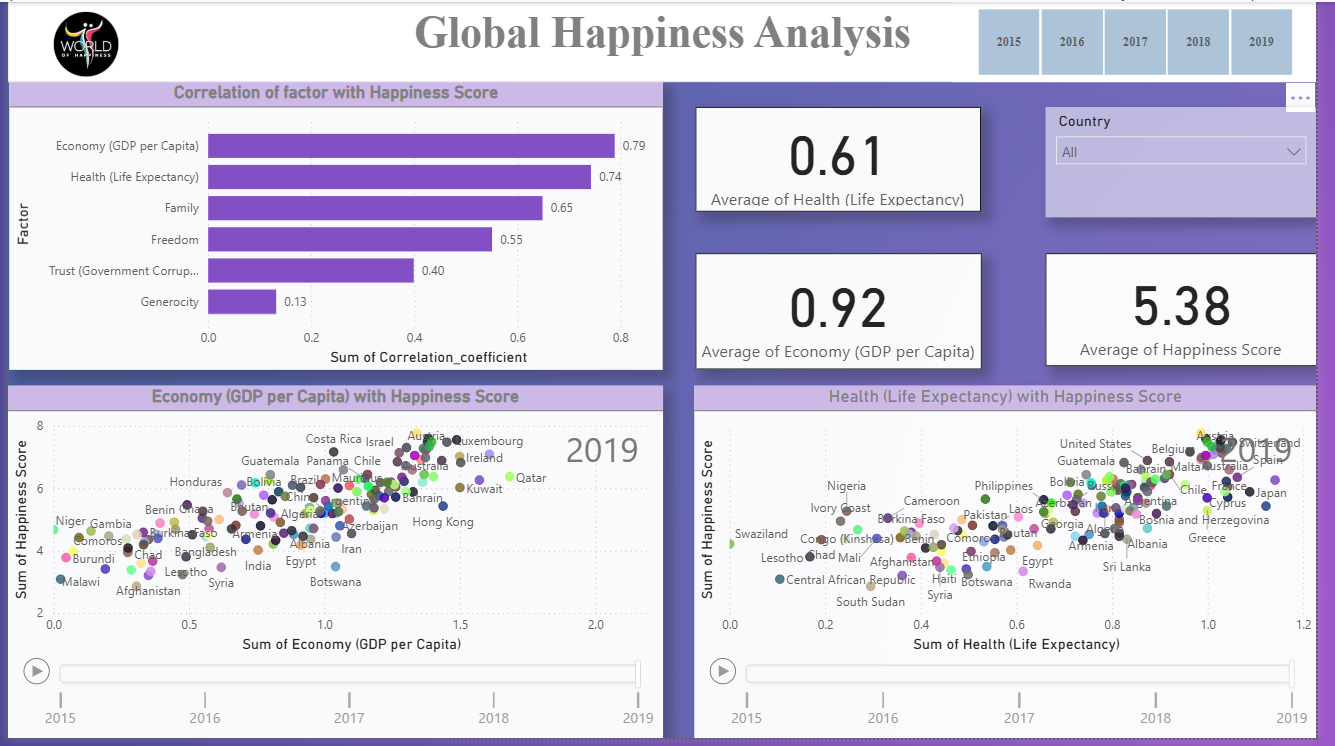

Layout of this report page (visuals, bound fields, positions):
{"tool":"powerbi","page":{"name":"Page 1","canvas":[1280,720],"ordinal":0},"visuals":[{"type":"clusteredBarChart","title":"Correlation of factor with Happiness Score","fields":{"Category":["Table.Factor"],"Y":["Sum(Table.Correlation_coefficient)"]},"box":[1.2,78.3,639.5,281.3],"z":0},{"type":"scatterChart","title":"Economy (GDP per Capita) with Happiness Score","fields":{"X":["Sum(world_happiness_2015_2019.Economy (GDP per Capita))"],"Y":["Sum(world_happiness_2015_2019.Happiness Score)"],"Play":["world_happiness_2015_2019.Year"],"Series":["world_happiness_2015_2019.Country"]},"box":[0,375.4,640.8,344.8],"z":1000},{"type":"scatterChart","title":"Health (Life Expectancy) with Happiness Score ","fields":{"Y":["Sum(world_happiness_2015_2019.Happiness Score)"],"X":["Sum(world_happiness_2015_2019.Health (Life Expectancy))"],"Series":["world_happiness_2015_2019.Country"],"Play":["world_happiness_2015_2019.Year"]},"box":[671.3,375.4,609,344.8],"z":2000},{"type":"textbox","box":[0,0,1280.3,78.3],"z":3000},{"type":"card","fields":{"Values":["Avg(world_happiness_2015_2019.Happiness Score)"]},"box":[1015,245.8,265.4,110.1],"z":4000},{"type":"card","fields":{"Values":["Avg(world_happiness_2015_2019.Economy (GDP per Capita))"]},"box":[672.6,245.8,280,113.7],"z":5000},{"type":"card","fields":{"Values":["Avg(world_happiness_2015_2019.Health (Life Expectancy))"]},"box":[672.6,102.7,278.8,102.7],"z":6000},{"type":"slicer","fields":{"Values":["world_happiness_2015_2019.Year"]},"box":[923.2,0,357.1,78.3],"z":7000},{"type":"slicer","fields":{"Values":["world_happiness_2015_2019.Country"]},"box":[1015,102.7,265.4,107.6],"z":8000},{"type":"image","box":[0,4.9,152.9,73.4],"z":9000}]}

Visuals, with their boxes in screenshot pixels (x1, y1, x2, y2), scaled from the page's 1280x720 canvas onto the 1335x746 screenshot:
"Correlation of factor with Happiness Score" clusteredBarChart: [1,81,668,373]
"Economy (GDP per Capita) with Happiness Score" scatterChart: [0,389,668,745]
"Health (Life Expectancy) with Happiness Score " scatterChart: [700,389,1334,745]
textbox: [0,0,1334,81]
card - Avg(world_happiness_2015_2019.Happiness Score): [1059,255,1334,369]
card - Avg(world_happiness_2015_2019.Economy (GDP per Capita)): [702,255,994,372]
card - Avg(world_happiness_2015_2019.Health (Life Expectancy)): [702,106,992,213]
slicer - world_happiness_2015_2019.Year: [963,0,1334,81]
slicer - world_happiness_2015_2019.Country: [1059,106,1334,218]
image: [0,5,159,81]
